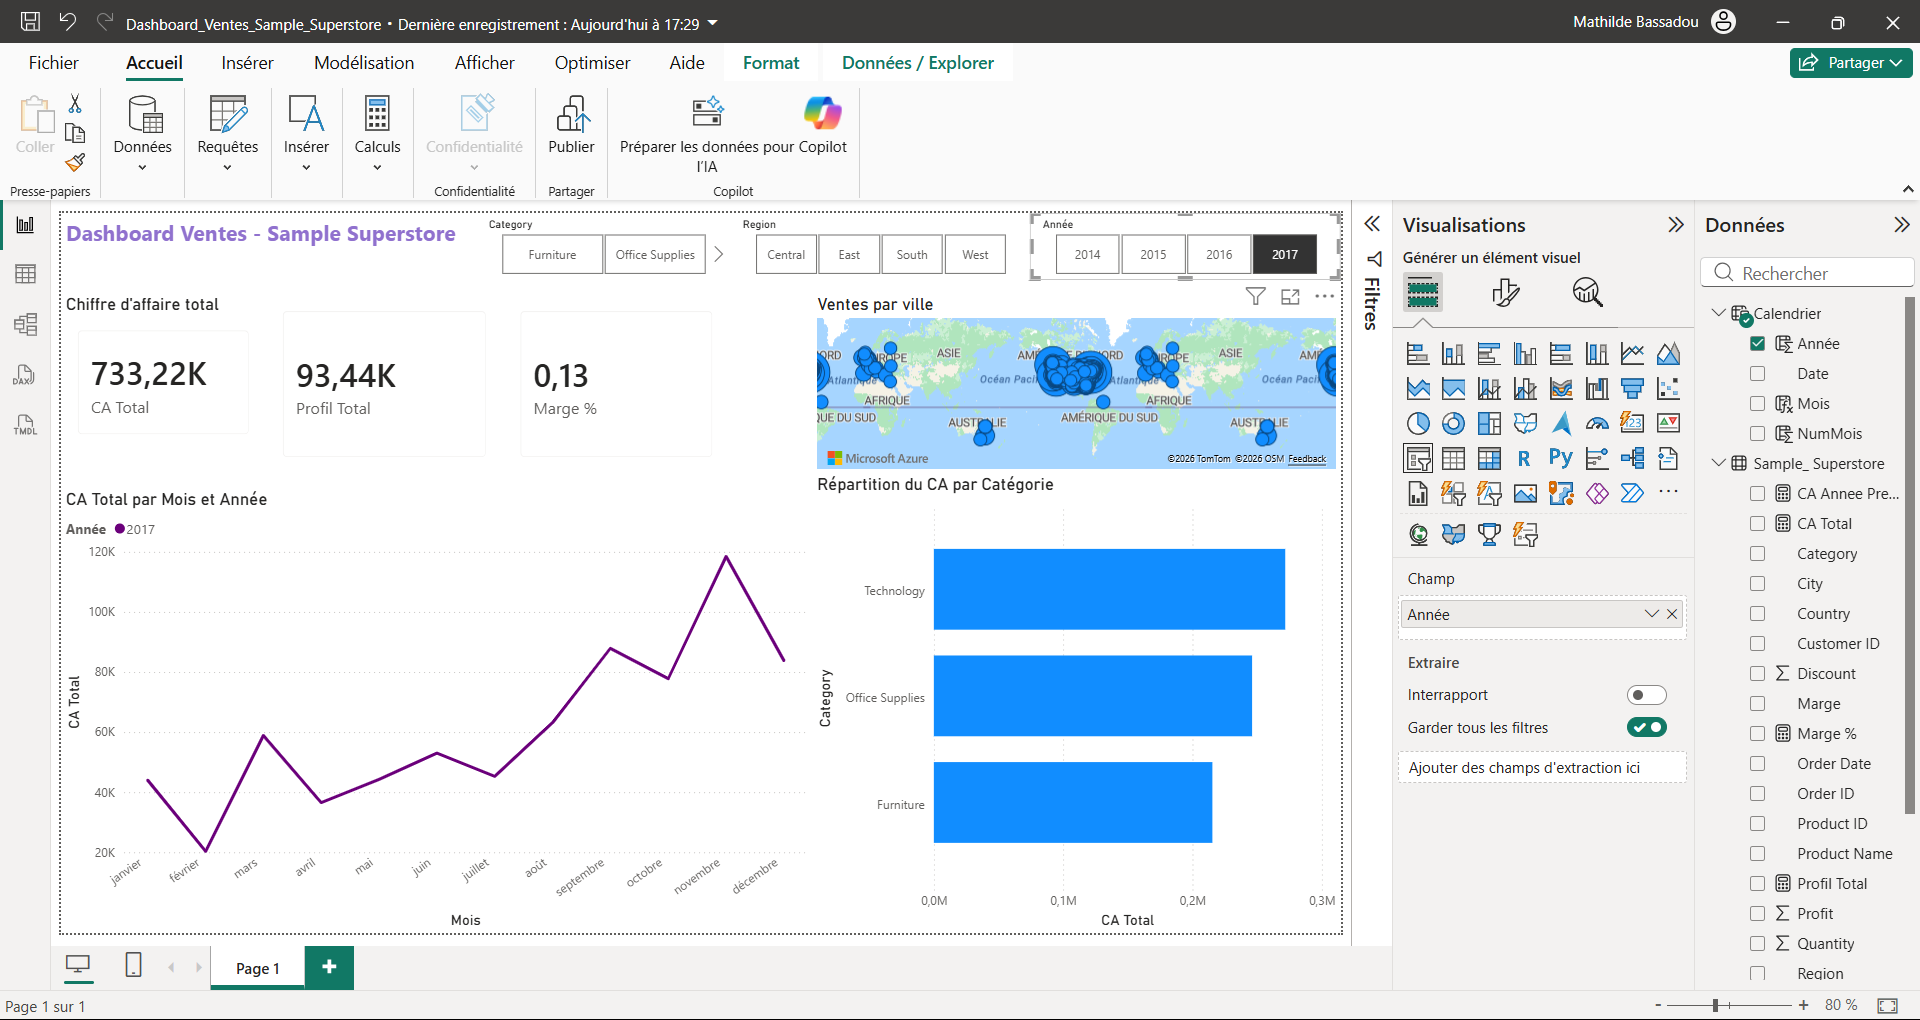

The page's visual inventory and layout, read from the dashboard file:
{"tool":"powerbi","page":{"name":"Page 1","canvas":[1280,720],"ordinal":0},"visuals":[{"type":"cardVisual","title":"Chiffre d''affaire total","fields":{"Data":["Sample_ Superstore.CA Total"]},"box":[0,81.2,205,157.5],"z":1},{"type":"lineChart","fields":{"Y":["Sample_ Superstore.CA Total"],"Series":["Calendrier.Année"],"Category":["Calendrier.Mois"]},"box":[0,276.2,751.2,443.8],"z":2},{"type":"clusteredBarChart","title":"Répartition du CA par Catégorie","fields":{"Y":["Sample_ Superstore.CA Total"],"Category":["Sample_ Superstore.Category"]},"box":[751.2,261.2,528.8,458.8],"z":3},{"type":"azureMap","title":"Ventes par ville","fields":{"Size":["Sample_ Superstore.CA Total"],"Category":["Sample_ Superstore.City"]},"box":[751.2,81.2,528.8,180],"z":4},{"type":"cardVisual","fields":{"Data":["Sample_ Superstore.Profil Total"]},"box":[205,81.2,237.5,180],"z":5},{"type":"cardVisual","fields":{"Data":["Sample_ Superstore.Marge %"]},"box":[442.5,81.2,226.2,180],"z":6},{"type":"textbox","box":[0,0,415,53.8],"z":7},{"type":"slicer","fields":{"Values":["Calendrier.Année"]},"box":[968.8,0,311.2,67.5],"z":8},{"type":"slicer","fields":{"Values":["Sample_ Superstore.Region"]},"box":[668.8,0,300,67.5],"z":9},{"type":"slicer","fields":{"Values":["Sample_ Superstore.Category"]},"box":[415,0,253.8,67.5],"z":10}]}

Visuals, with their boxes on the page's 1280x720 design canvas (x1, y1, x2, y2). These are canvas units, not pixel positions in the 1920x1020 screenshot, which may show the page scaled, cropped or inside an application window:
"Chiffre d''affaire total" cardVisual: detection(0, 81, 205, 239)
lineChart - Sample_ Superstore.CA Total x Calendrier.Année: detection(0, 276, 751, 720)
"Répartition du CA par Catégorie" clusteredBarChart: detection(751, 261, 1280, 720)
"Ventes par ville" azureMap: detection(751, 81, 1280, 261)
cardVisual - Sample_ Superstore.Profil Total: detection(205, 81, 442, 261)
cardVisual - Sample_ Superstore.Marge %: detection(442, 81, 669, 261)
textbox: detection(0, 0, 415, 54)
slicer - Calendrier.Année: detection(969, 0, 1280, 68)
slicer - Sample_ Superstore.Region: detection(669, 0, 969, 68)
slicer - Sample_ Superstore.Category: detection(415, 0, 669, 68)
